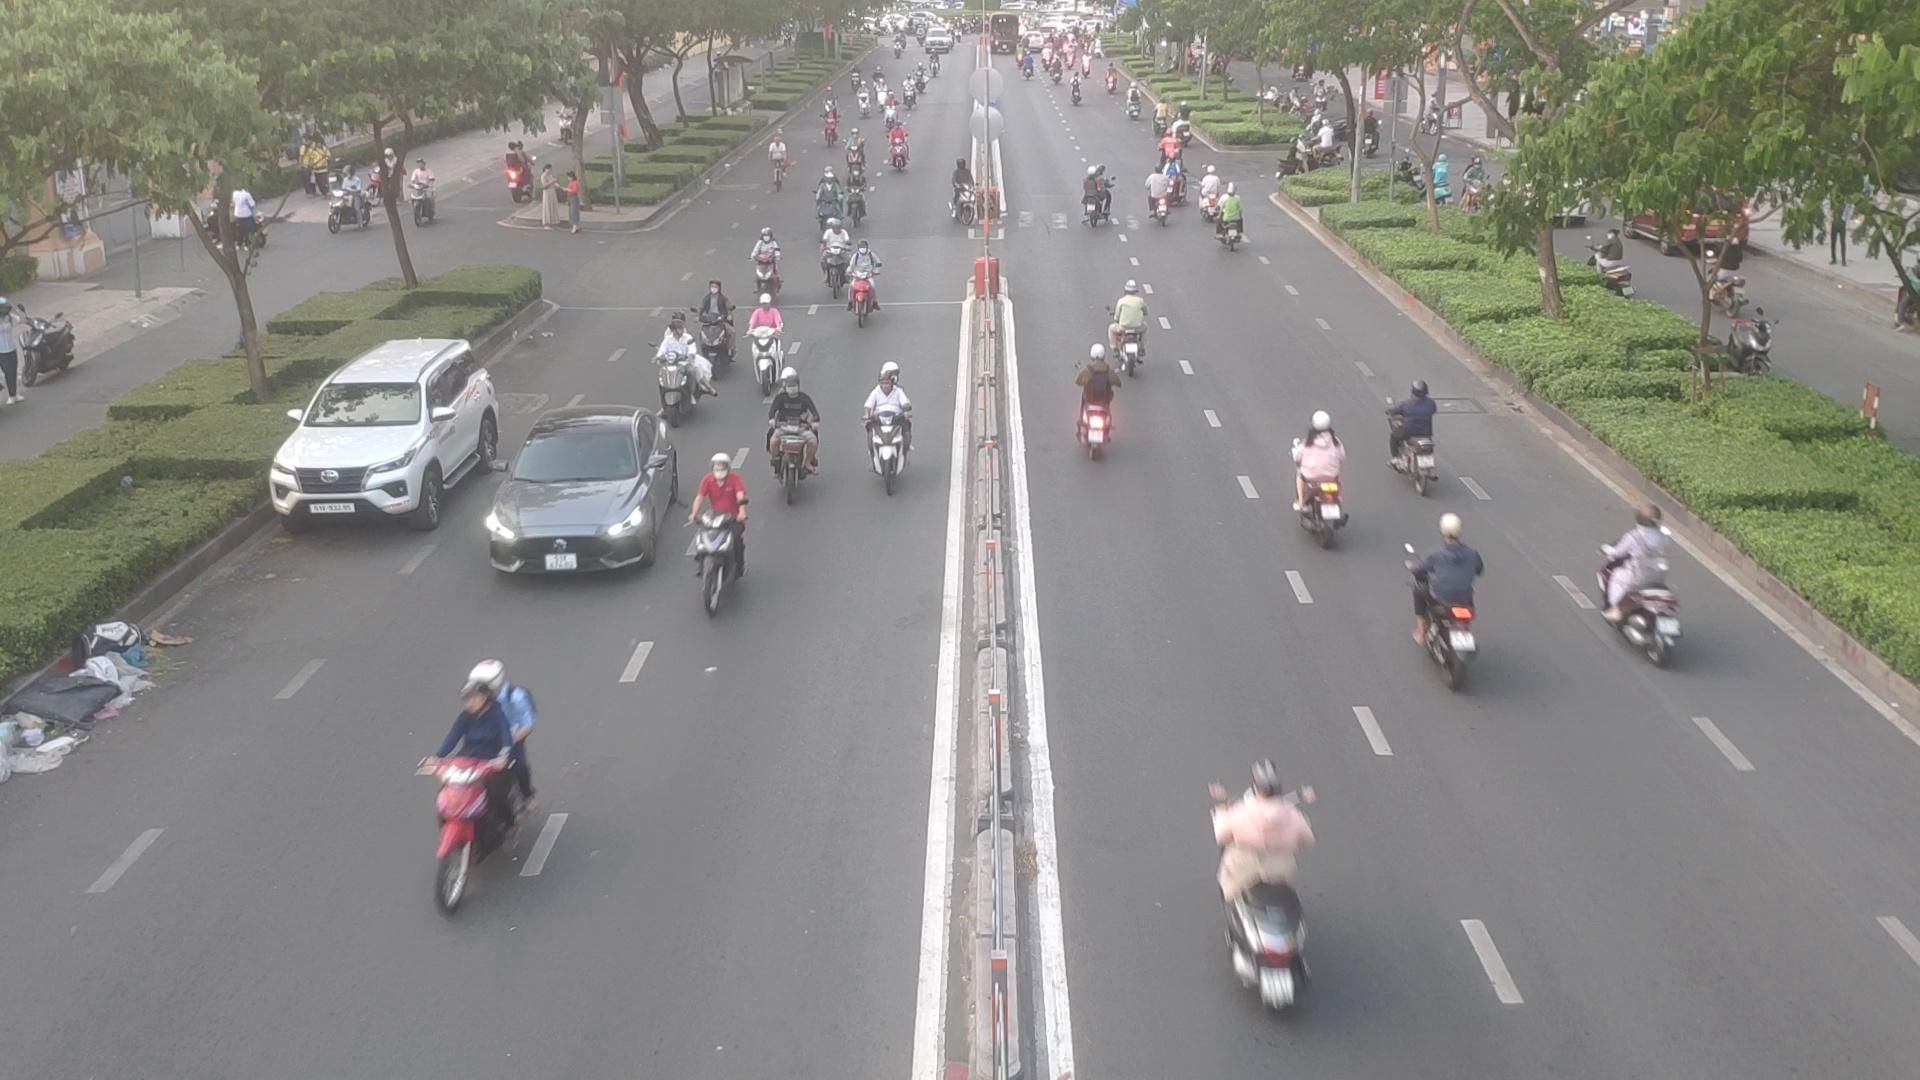car: (272, 339, 516, 531), (484, 407, 683, 572)
motorbike: (401, 661, 541, 909), (1215, 839, 1325, 1004), (1208, 764, 1327, 901), (1408, 524, 1491, 676), (1607, 520, 1693, 663), (688, 451, 746, 603), (857, 369, 920, 498), (1288, 418, 1352, 538), (767, 381, 829, 496), (1064, 349, 1126, 462), (1386, 381, 1443, 481), (649, 328, 713, 415), (1106, 286, 1164, 373), (691, 284, 744, 363), (847, 240, 884, 324), (1211, 187, 1255, 252), (750, 301, 781, 389), (1075, 166, 1116, 229), (819, 219, 849, 294), (753, 225, 779, 307), (1146, 164, 1179, 224), (840, 169, 866, 229), (882, 125, 914, 171), (948, 158, 969, 219), (818, 167, 837, 227), (1196, 164, 1213, 219), (1167, 161, 1187, 204), (816, 108, 837, 146), (847, 131, 865, 174)
